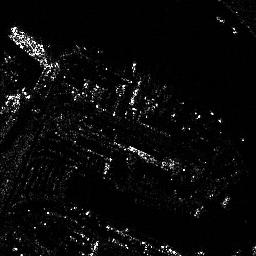ship: (9, 25, 47, 60)
